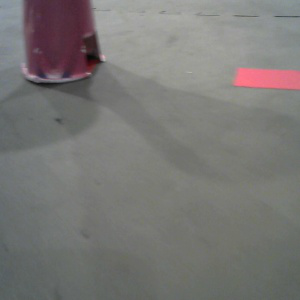middle: (17, 1, 105, 85)
